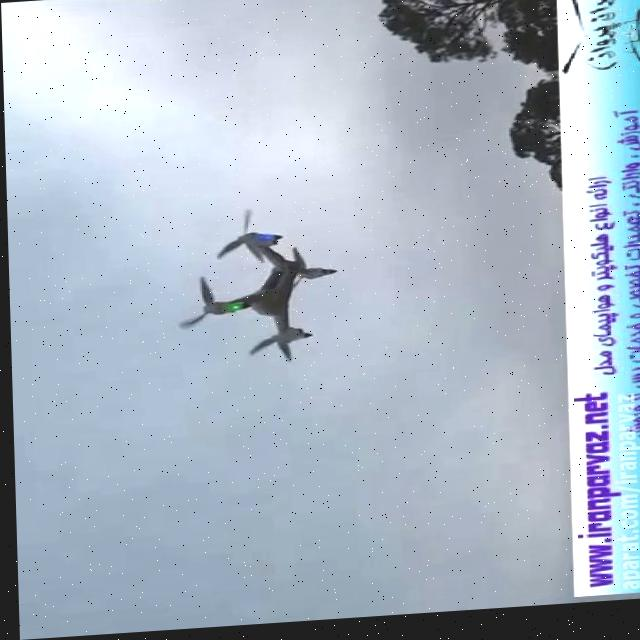drone: (168, 205, 338, 377)
